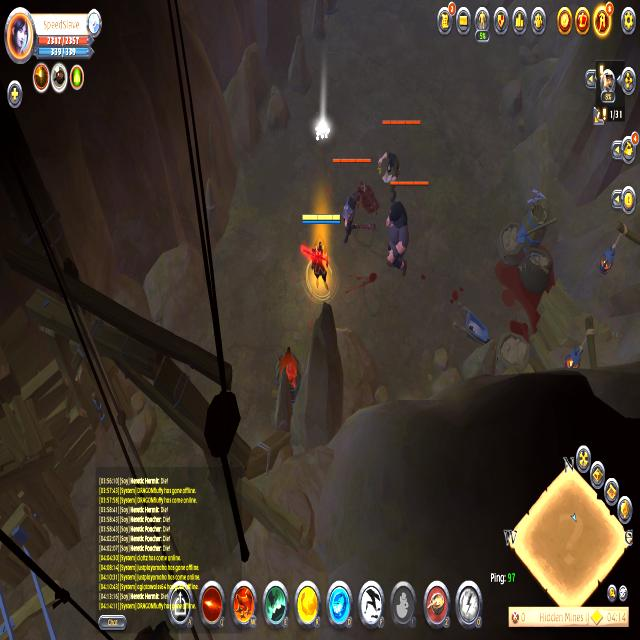ore: (366, 117, 426, 216), (382, 180, 432, 286), (330, 155, 376, 250)
red: (296, 208, 344, 304)
stone: (313, 116, 333, 145)
